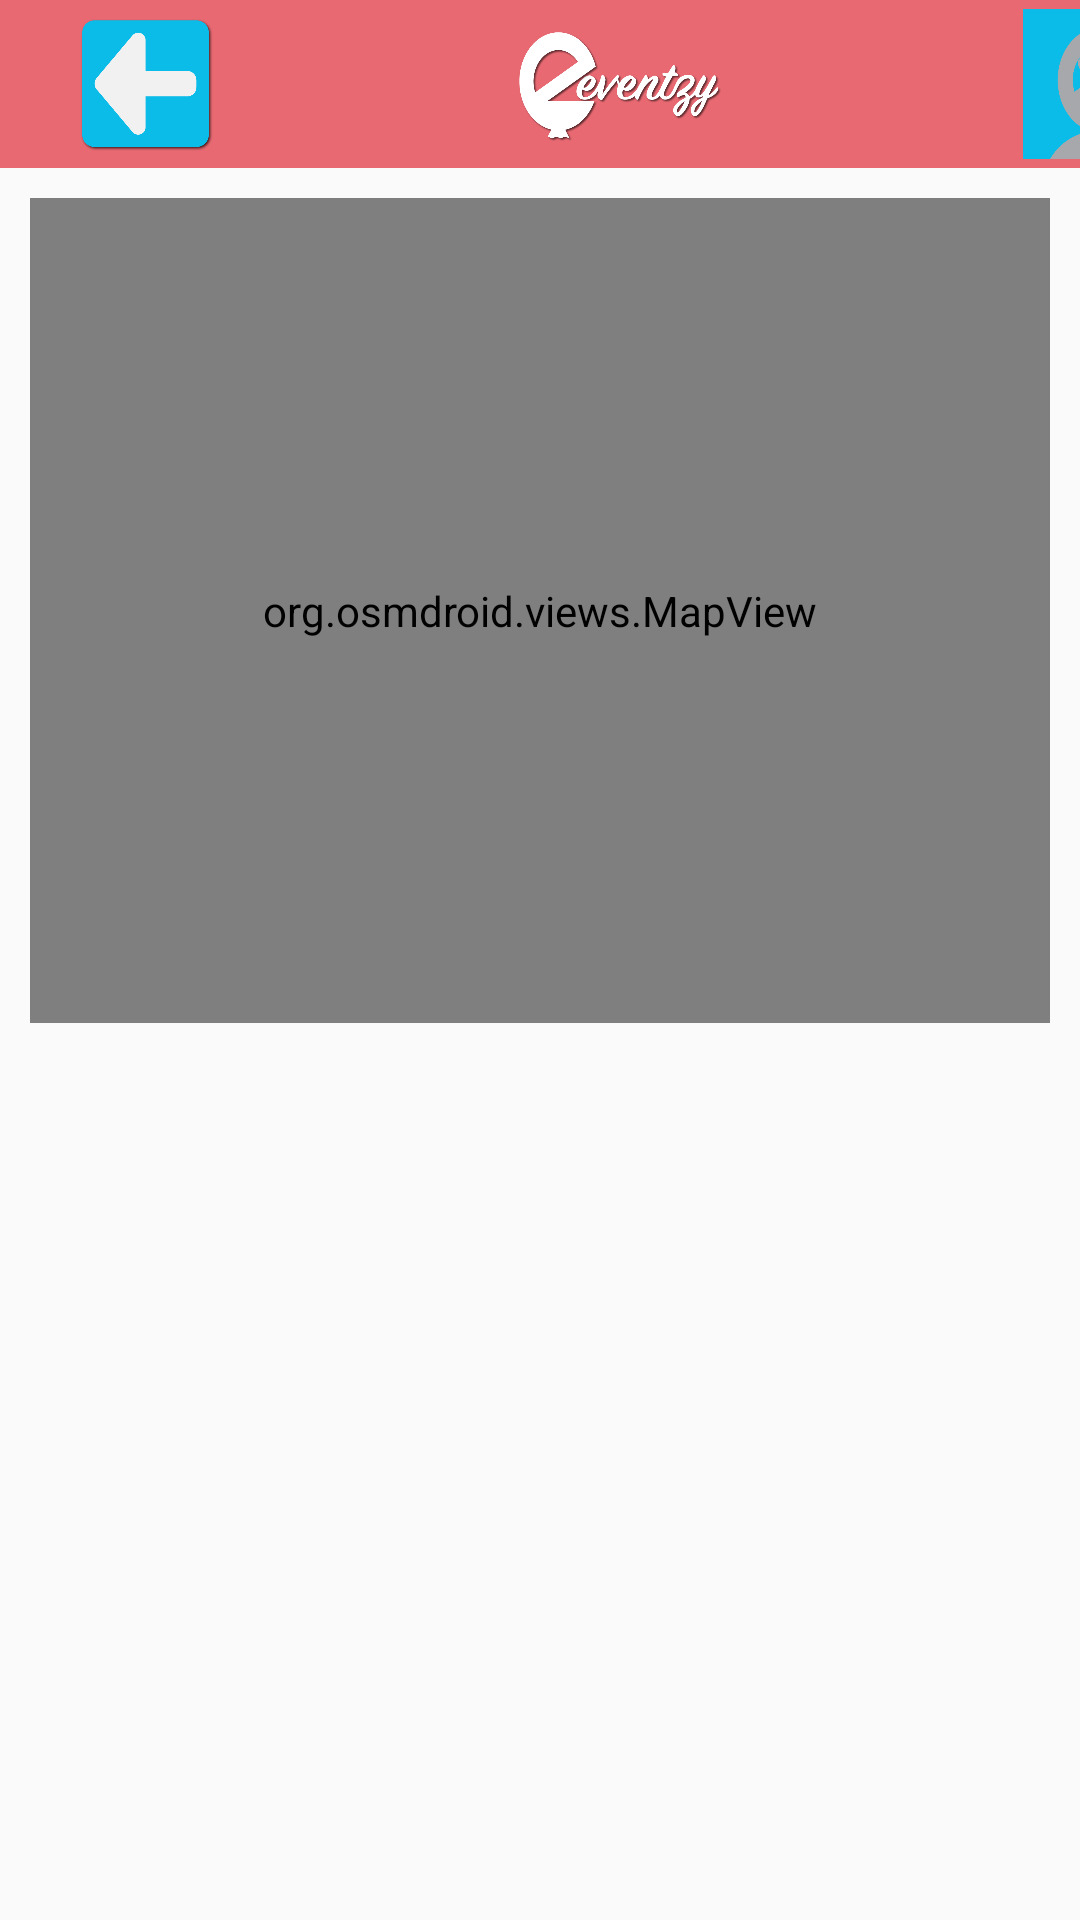

Named icons in this screenshot (1080 x 1920) and their bounding boxes, (x1, y1, x2, y2):
back: (82, 20, 212, 150)
